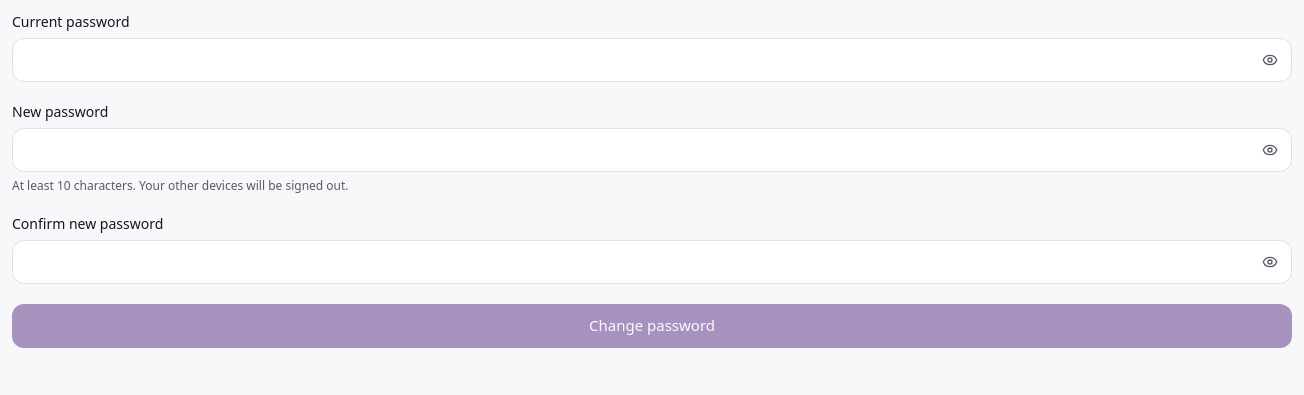
Scenario: PasswordForm › stops before sending when the new passwords don’t match
Type "old-password-1" into the password field labelled "Current password" at {"x": 652, "y": 60}, box [12,38,1292,82]
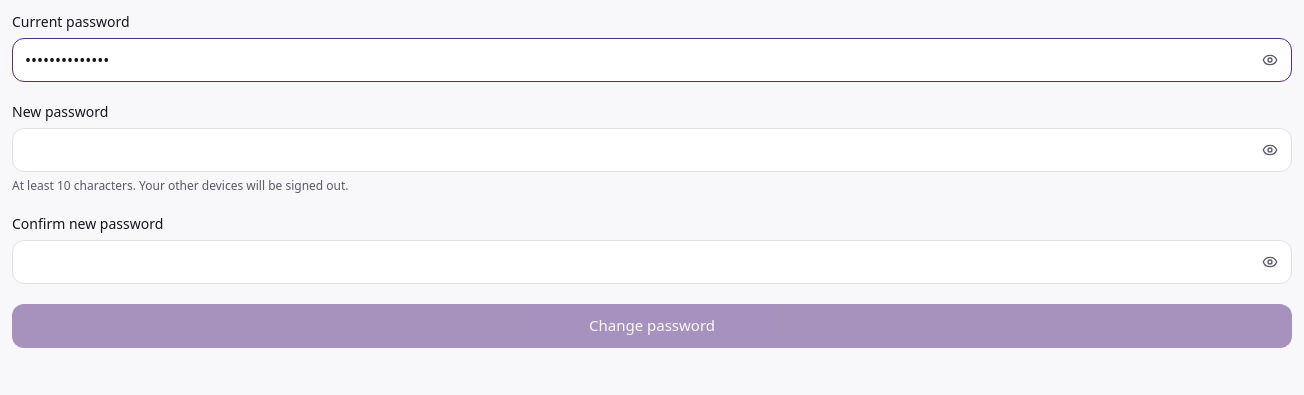
Type "new-password-22" into the password field labelled "New password" at {"x": 652, "y": 150}, box [12,128,1292,172]
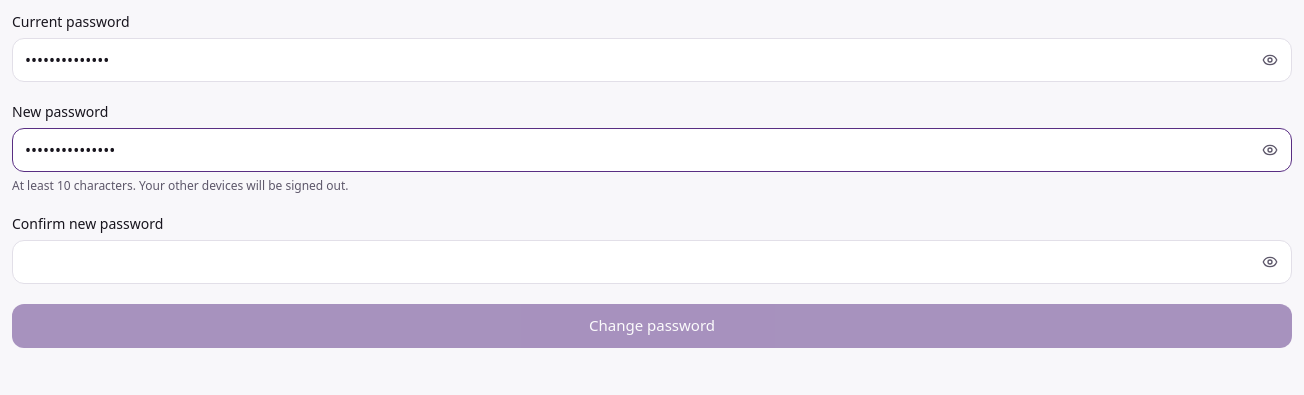
Type "new-password-23" into the password field labelled "Confirm new password" at {"x": 652, "y": 262}, box [12,240,1292,284]
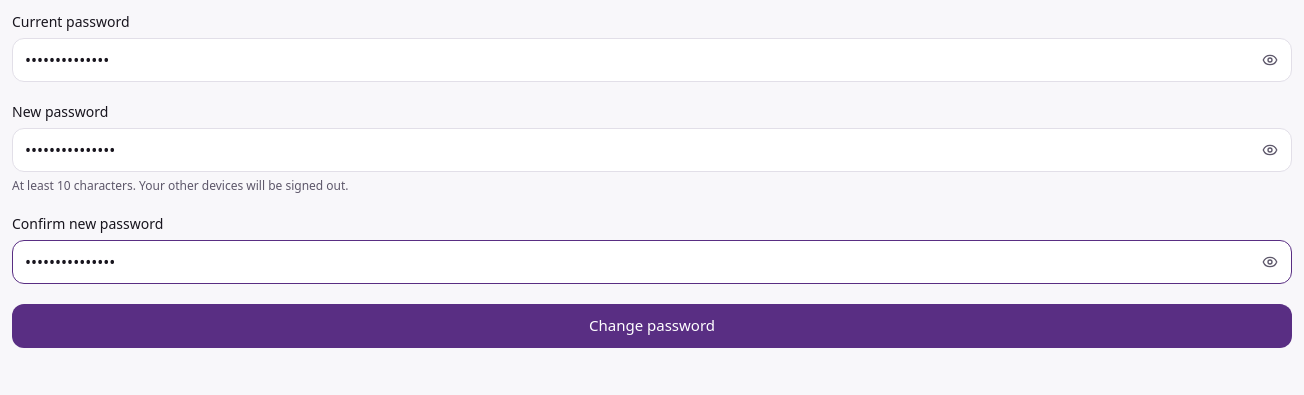
Click the button "Change password" at {"x": 652, "y": 326}, box [12,304,1292,348]
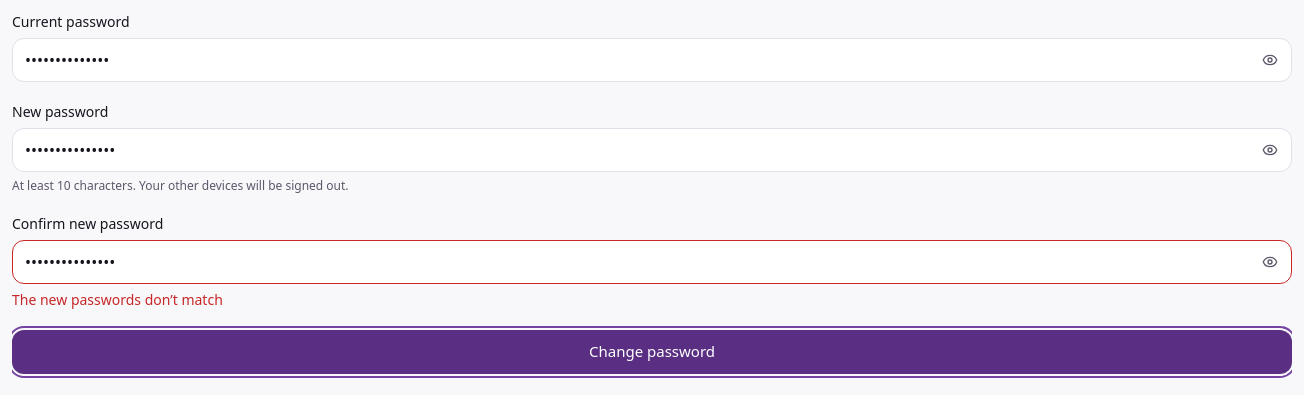
Result: the text "The new passwords don’t match" is shown at [12,290,223,309]
